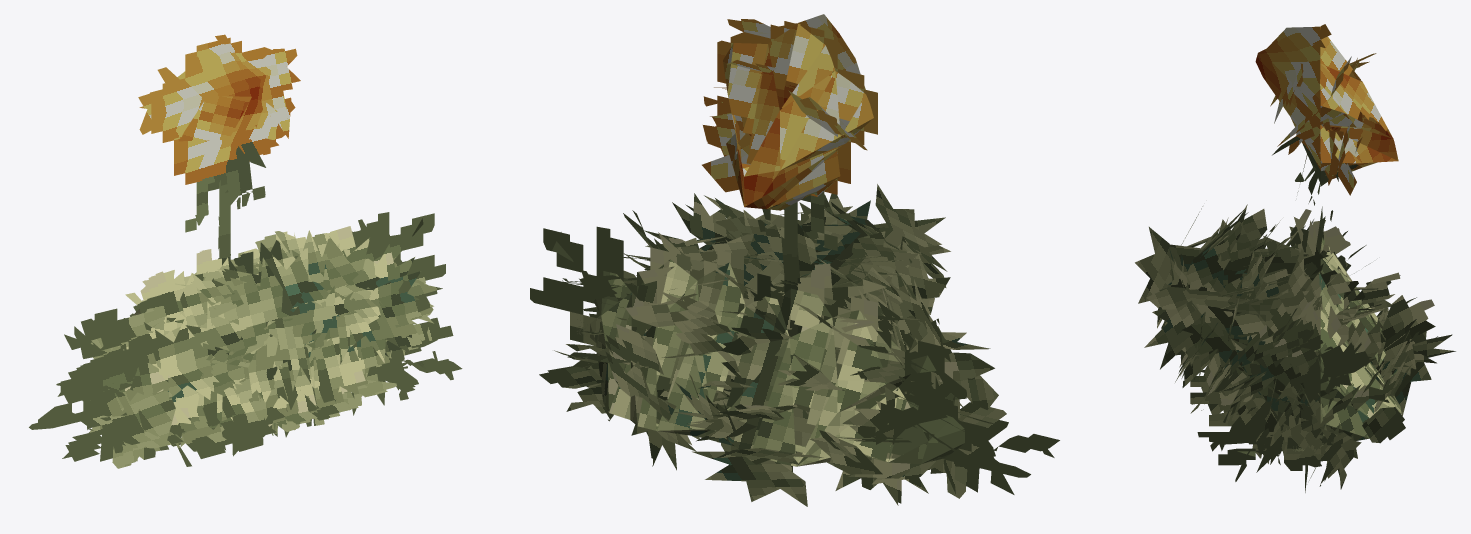
File: flower_905_cut_hd.glb
3 renders of one model, left to right at view 1: azimuth 30°, elevation 25°; view 2: azimuth 150°, elevation 25°; view 3: azimuth 270°, elevation 25°, orthographic. The views are drawn at different scales.
Visible parts, largest first — view 1: flower_905_cut_lod0; view 2: flower_905_cut_lod0; view 3: flower_905_cut_lod0.
Part boxes in pixels (box(x1,y1,x2,y2)): flower_905_cut_lod0: box(29, 34, 462, 468); flower_905_cut_lod0: box(530, 14, 1059, 506); flower_905_cut_lod0: box(1135, 24, 1455, 492).
Bounding box in the file's own units: 0.854 × 0.7268 × 0.5068.
Materials: 1 (1 with a texture image).
